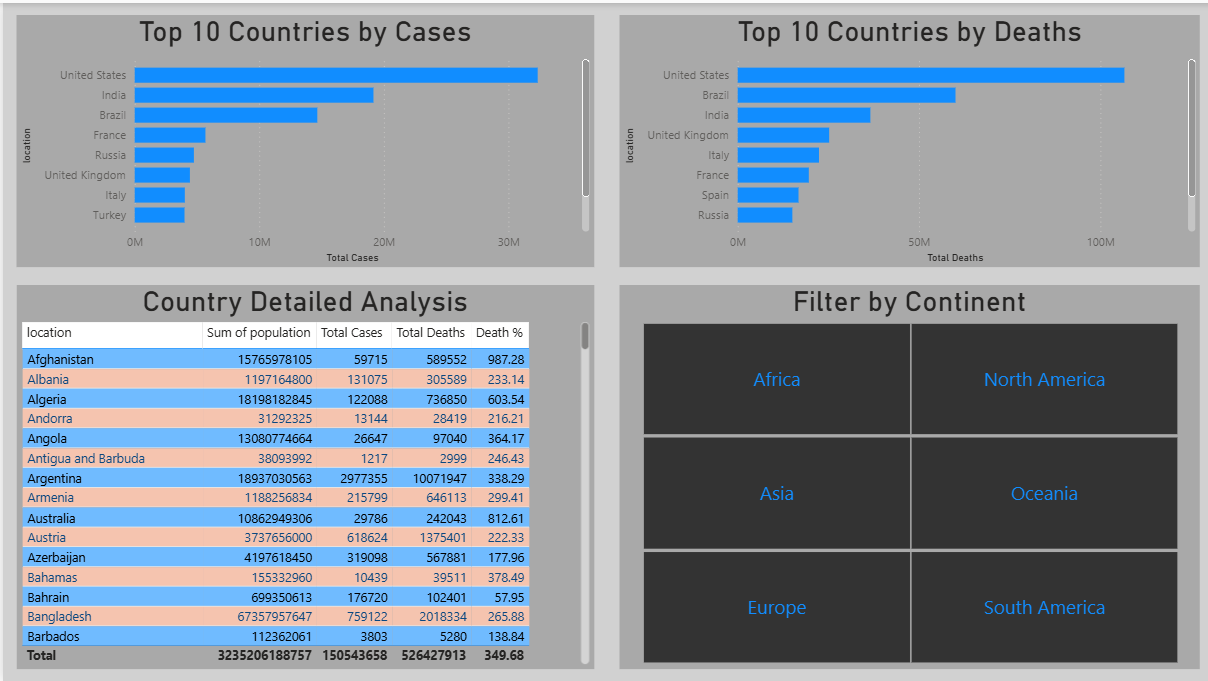

The page's visual inventory and layout, read from the dashboard file:
{"tool":"powerbi","page":{"name":"Country Analysis","canvas":[1280,720],"ordinal":1},"visuals":[{"type":"clusteredBarChart","title":"Top 10 Countries by Cases","fields":{"Category":["CovidDeaths_Clean.location"],"Y":["CovidDeaths_Clean.Total Cases"]},"box":[14.3,12.7,612.4,267.2],"z":0},{"type":"clusteredBarChart","title":"Top 10 Countries by Deaths","fields":{"Category":["CovidDeaths_Clean.location"],"Y":["CovidDeaths_Clean.Total Deaths"]},"box":[653.7,12.7,615.6,267.2],"z":1000},{"type":"tableEx","title":"Country Detailed Analysis","fields":{"Values":["CovidDeaths_Clean.location","Sum(CovidDeaths_Clean.population)","CovidDeaths_Clean.Total Cases","CovidDeaths_Clean.Total Deaths","CovidDeaths_Clean.Death %"]},"box":[14.3,299,612.4,407.2],"z":2000},{"type":"slicer","title":"Filter by Continent","fields":{"Values":["CovidDeaths_Clean.continent"]},"box":[653.7,299,615.6,407.2],"z":3000}]}

Visuals, with their boxes in screenshot pixels (x1, y1, x2, y2), scaled from the page's 1280x720 canvas onto the 1208x681 screenshot:
"Top 10 Countries by Cases" clusteredBarChart: bbox(13, 12, 591, 265)
"Top 10 Countries by Deaths" clusteredBarChart: bbox(617, 12, 1198, 265)
"Country Detailed Analysis" tableEx: bbox(13, 283, 591, 668)
"Filter by Continent" slicer: bbox(617, 283, 1198, 668)
